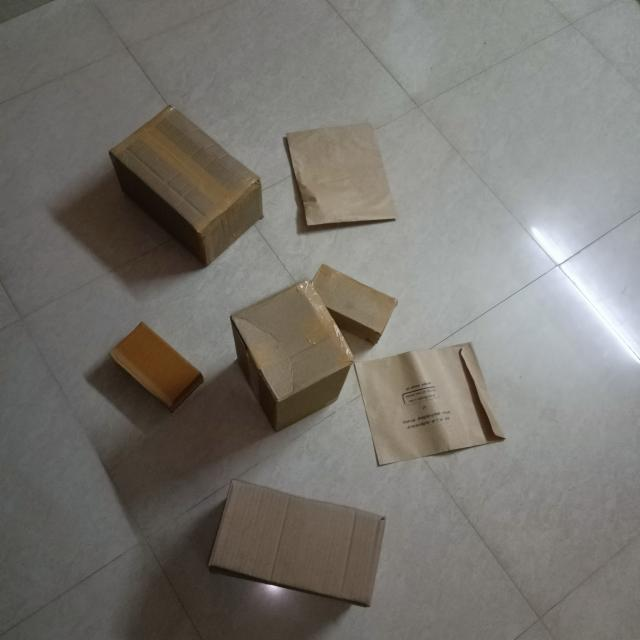box: (208, 483, 388, 604), (111, 103, 258, 236), (355, 340, 509, 464), (235, 275, 355, 401), (284, 125, 399, 237), (114, 325, 200, 408)
